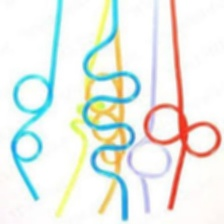drinking_straw: (140, 0, 224, 217), (5, 0, 66, 207)
